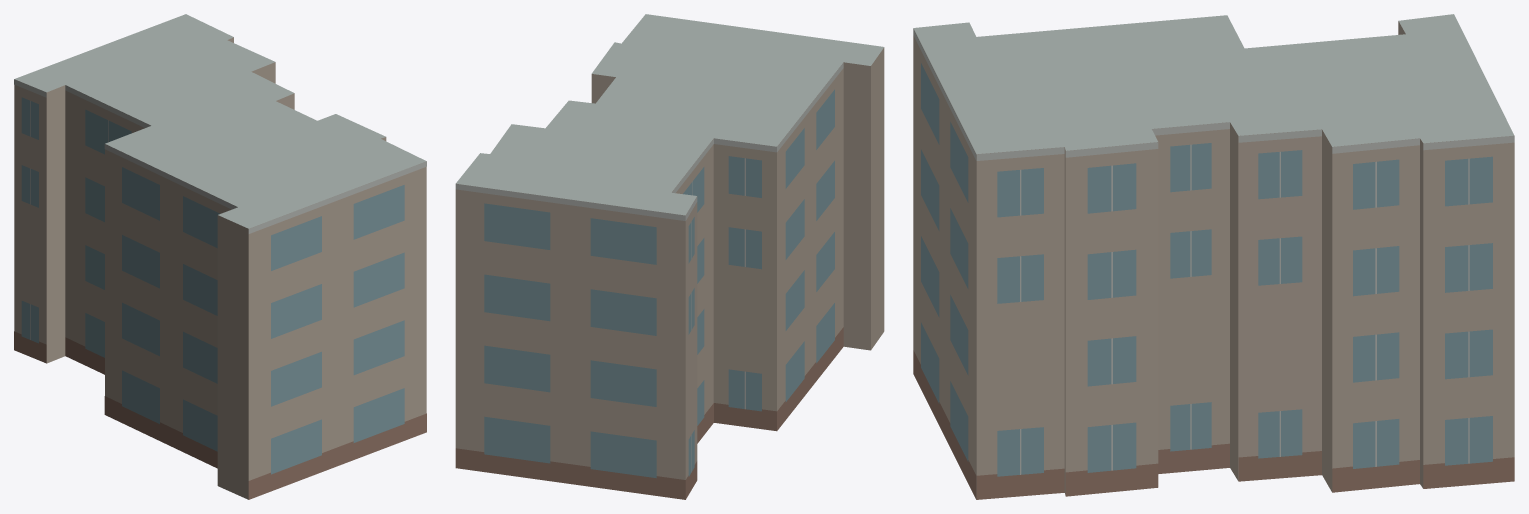
The model's file is survey-upis-32758463.glb.
3 renders of one model, left to right at view 1: azimuth 30°, elevation 25°; view 2: azimuth 150°, elevation 25°; view 3: azimuth 270°, elevation 25°, orthographic. The views are drawn at different scales.
Visible parts, largest first — view 1: survey-upis-32758463.tmp; view 2: survey-upis-32758463.tmp; view 3: survey-upis-32758463.tmp.
Part boxes in pixels (x1,y1,x2,y2): survey-upis-32758463.tmp: (14,14,426,499); survey-upis-32758463.tmp: (455,14,884,499); survey-upis-32758463.tmp: (913,14,1514,499).
Size of the model in its own units: 10.62 by 12.2 by 19.24.
